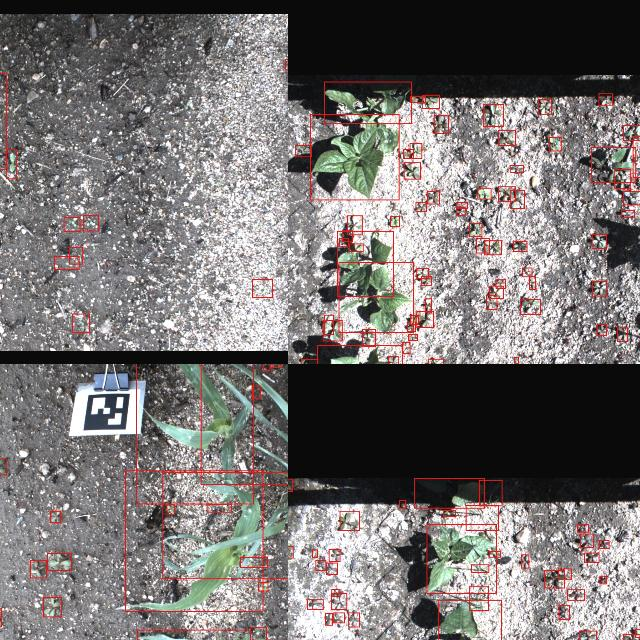crop: (125, 471, 262, 612), (135, 364, 252, 503), (310, 114, 398, 200), (338, 263, 414, 333), (426, 524, 496, 594), (337, 231, 393, 297), (324, 81, 411, 123), (437, 600, 500, 640), (414, 478, 484, 508), (316, 346, 402, 364)
weed: (162, 471, 288, 578), (199, 364, 288, 484), (591, 146, 635, 182), (466, 504, 498, 530), (478, 479, 502, 505), (468, 586, 488, 610), (483, 104, 503, 126), (322, 321, 342, 342), (47, 554, 71, 570), (252, 280, 272, 298), (42, 597, 60, 617), (339, 512, 359, 530), (544, 570, 564, 588), (54, 256, 78, 270), (614, 168, 630, 188), (6, 149, 16, 179), (72, 314, 88, 332), (508, 190, 524, 208), (432, 115, 448, 133), (416, 311, 434, 327), (346, 216, 362, 234), (30, 560, 46, 578), (520, 300, 540, 314), (404, 163, 421, 179), (240, 557, 266, 567), (63, 216, 79, 232), (82, 215, 98, 231), (498, 186, 514, 202), (330, 593, 346, 609), (623, 125, 640, 140), (622, 191, 640, 205), (484, 241, 501, 255), (68, 248, 82, 264), (422, 94, 438, 108), (590, 234, 606, 248), (498, 130, 514, 144), (250, 627, 266, 640), (362, 329, 374, 346), (592, 282, 606, 296), (579, 533, 593, 547), (409, 142, 421, 158), (538, 98, 550, 114), (207, 504, 231, 512), (323, 315, 332, 335), (566, 590, 584, 600), (578, 630, 595, 640), (548, 137, 560, 151), (468, 224, 482, 236), (476, 238, 488, 252), (489, 286, 503, 298), (296, 145, 310, 157), (486, 294, 496, 310), (558, 604, 568, 620), (306, 599, 322, 609), (427, 190, 439, 203), (598, 94, 612, 105), (470, 564, 488, 572), (558, 568, 570, 580), (617, 328, 627, 342), (512, 241, 526, 251), (584, 552, 598, 562), (348, 613, 358, 627), (328, 549, 339, 561), (478, 188, 490, 198), (596, 324, 606, 336), (414, 202, 426, 212), (416, 268, 428, 278), (342, 230, 352, 242), (50, 511, 60, 523), (326, 562, 336, 574), (620, 210, 634, 218), (509, 164, 523, 172), (348, 244, 362, 252), (332, 613, 343, 623), (622, 634, 639, 640), (421, 276, 431, 286), (257, 582, 267, 592), (315, 560, 325, 570), (252, 386, 260, 398), (324, 613, 332, 625), (576, 524, 588, 532), (389, 217, 398, 227), (401, 342, 409, 353), (410, 96, 424, 102), (529, 276, 535, 290), (425, 299, 431, 313), (442, 510, 456, 516), (522, 554, 528, 568), (521, 268, 531, 276), (495, 280, 505, 288), (403, 150, 413, 158), (407, 322, 415, 332), (388, 356, 398, 364), (338, 238, 348, 246), (0, 459, 5, 475), (166, 504, 174, 514), (598, 540, 608, 548), (427, 359, 442, 364), (300, 360, 317, 364), (488, 551, 499, 557), (456, 207, 464, 215), (410, 316, 418, 324), (456, 202, 466, 208), (408, 335, 417, 341), (399, 500, 405, 508), (634, 629, 640, 637), (600, 576, 606, 584), (331, 590, 339, 596), (262, 364, 271, 369), (284, 58, 288, 69), (288, 546, 292, 557), (288, 478, 291, 491), (269, 364, 280, 367), (312, 549, 316, 557), (514, 357, 518, 363)
